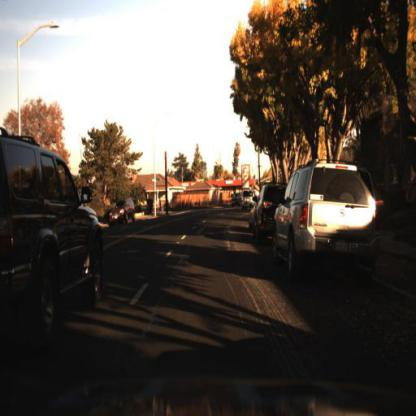car: (1, 123, 104, 341), (269, 156, 385, 277), (253, 177, 282, 243), (109, 196, 139, 227), (240, 189, 259, 213), (227, 189, 245, 209)
